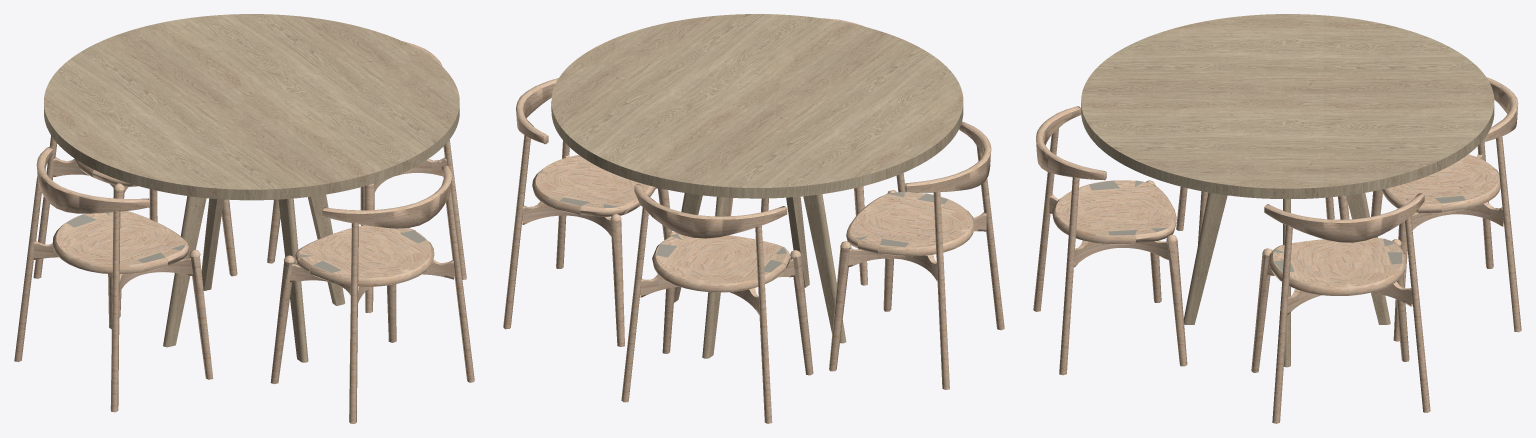
Rendered from dining_table_round.glb.
The picture shows the model from 3 angles, left to right: view 1: azimuth 30°, elevation 25°; view 2: azimuth 150°, elevation 25°; view 3: azimuth 270°, elevation 25°; orthographic projection.
Parts seen in each view (by area): view 1: Geom3D_, Geom3D (×8); view 2: Geom3D_, Geom3D (×8); view 3: Geom3D_, Geom3D (×7).
Part boxes in pixels (x1,y1,x2,y2): Geom3D_: [44, 14, 459, 200]; Geom3D (×8): [14, 41, 474, 423]; Geom3D_: [551, 14, 963, 198]; Geom3D (×8): [503, 18, 1004, 423]; Geom3D_: [1081, 14, 1494, 199]; Geom3D (×7): [1033, 77, 1521, 423].
Size of the model in its own units: 1.6 by 0.8002 by 1.6.
4 materials, 2 textured.
